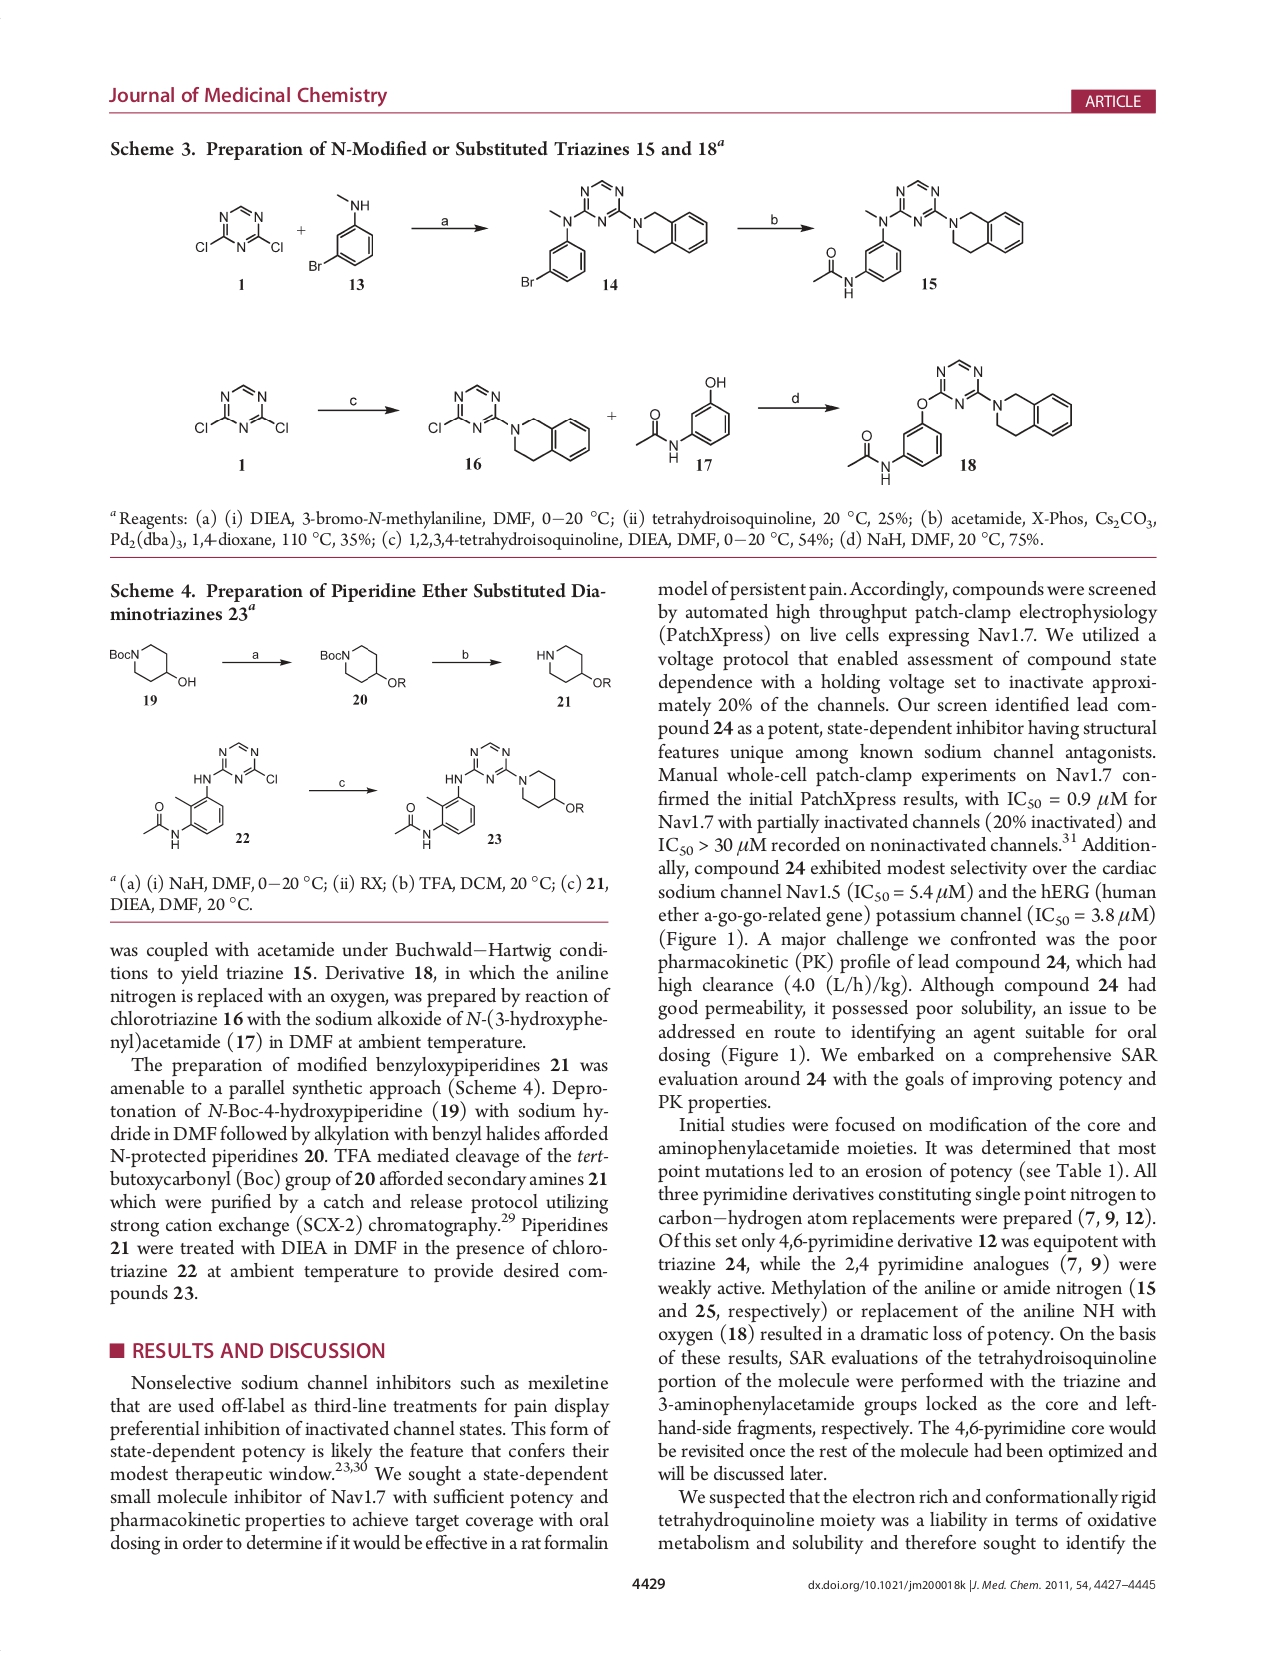exist_molecular: (846, 356, 1077, 485), (809, 176, 1028, 302), (519, 174, 711, 290), (390, 738, 586, 848), (140, 738, 279, 850), (423, 380, 590, 463), (630, 372, 734, 465), (186, 197, 289, 262), (190, 372, 293, 438), (307, 188, 378, 273), (105, 637, 199, 693), (318, 634, 410, 689), (531, 637, 610, 692)
